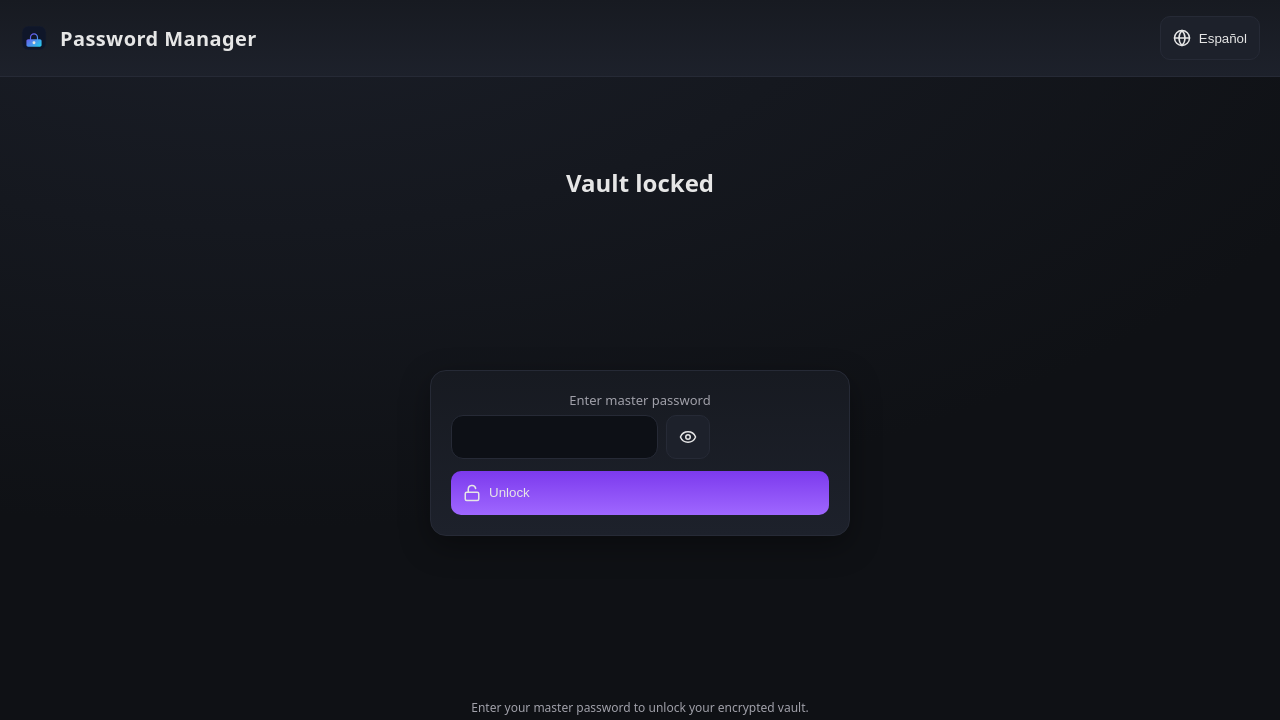
Scenario: a11y-foundations › Enter submits the add-entry form (keyboard-only flow)
Expected: the heading "Vault locked" is shown, [566,166,714,199]
Type "Str0ng!Pass" into the password field labelled "Enter master password".
click(554, 437); type("Str0ng!Pass")  # box [451,415,658,459]
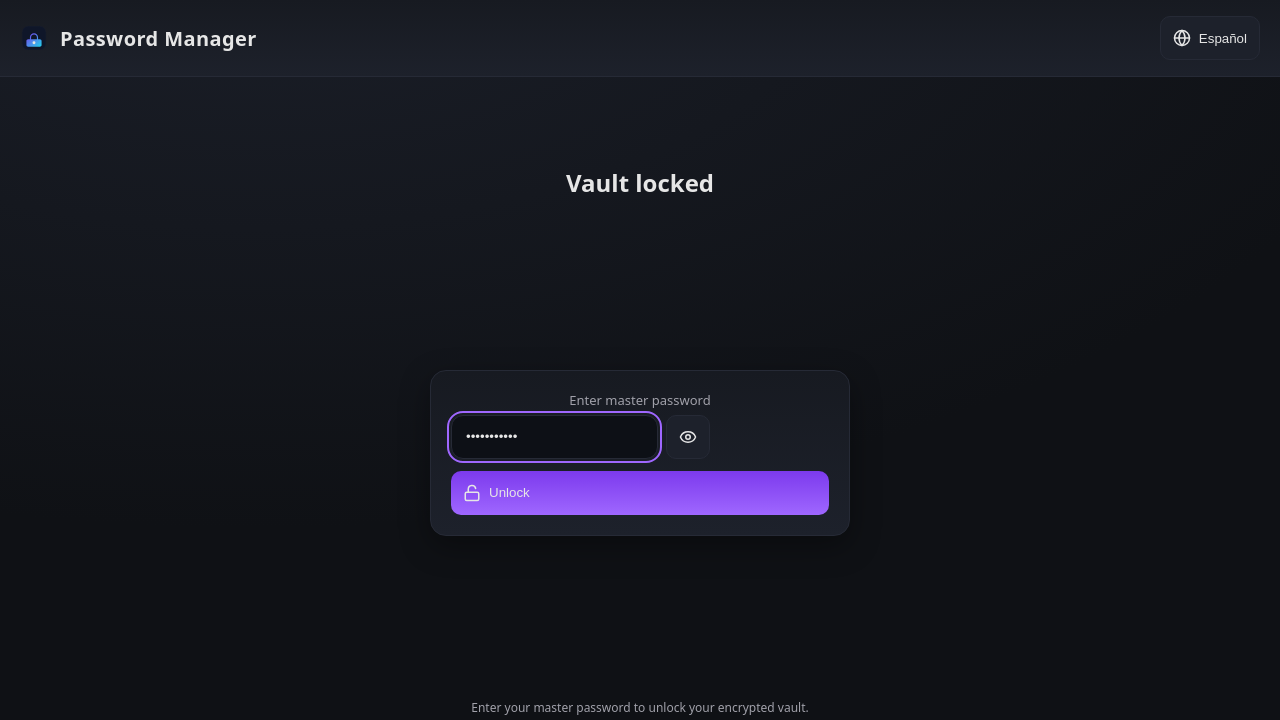
Click the button "Unlock".
click(509, 493)  # box [451,471,829,515]
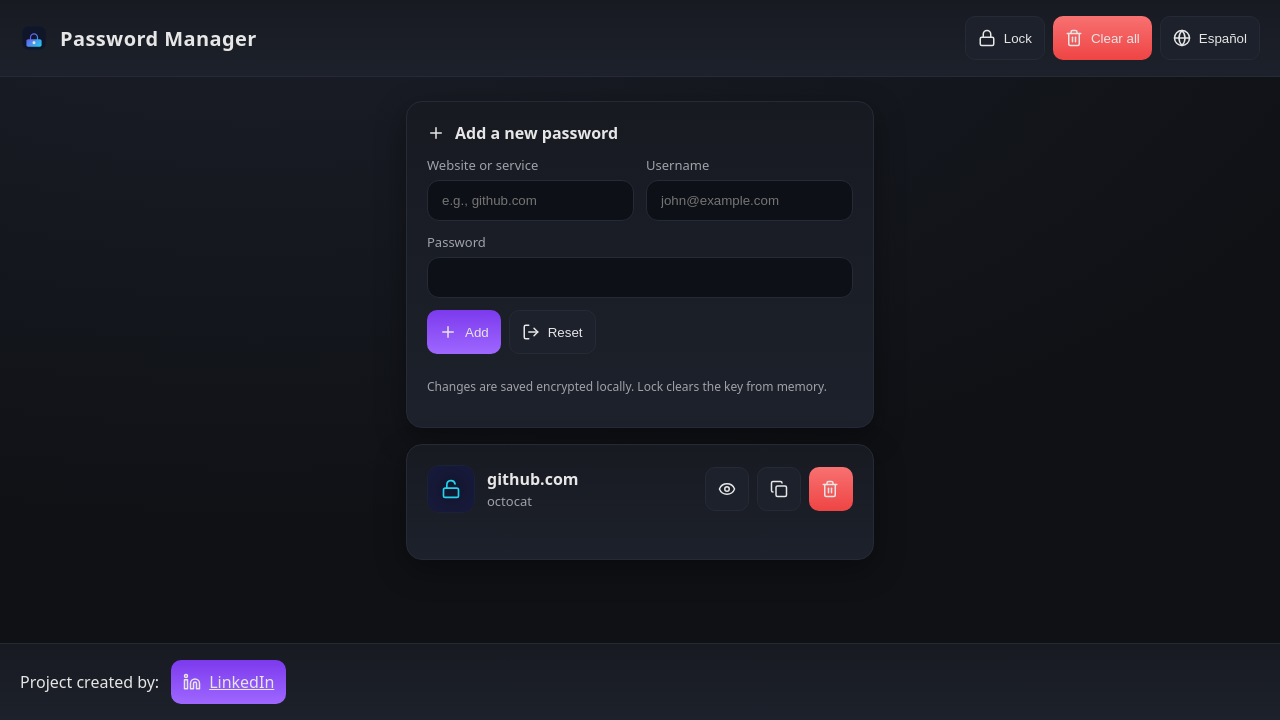
Expected: the text "github.com" is shown, [487,468,578,490]
Type "example.org" into the field labelled "Website or service".
click(530, 200); type("example.org")  # box [427,180,634,221]
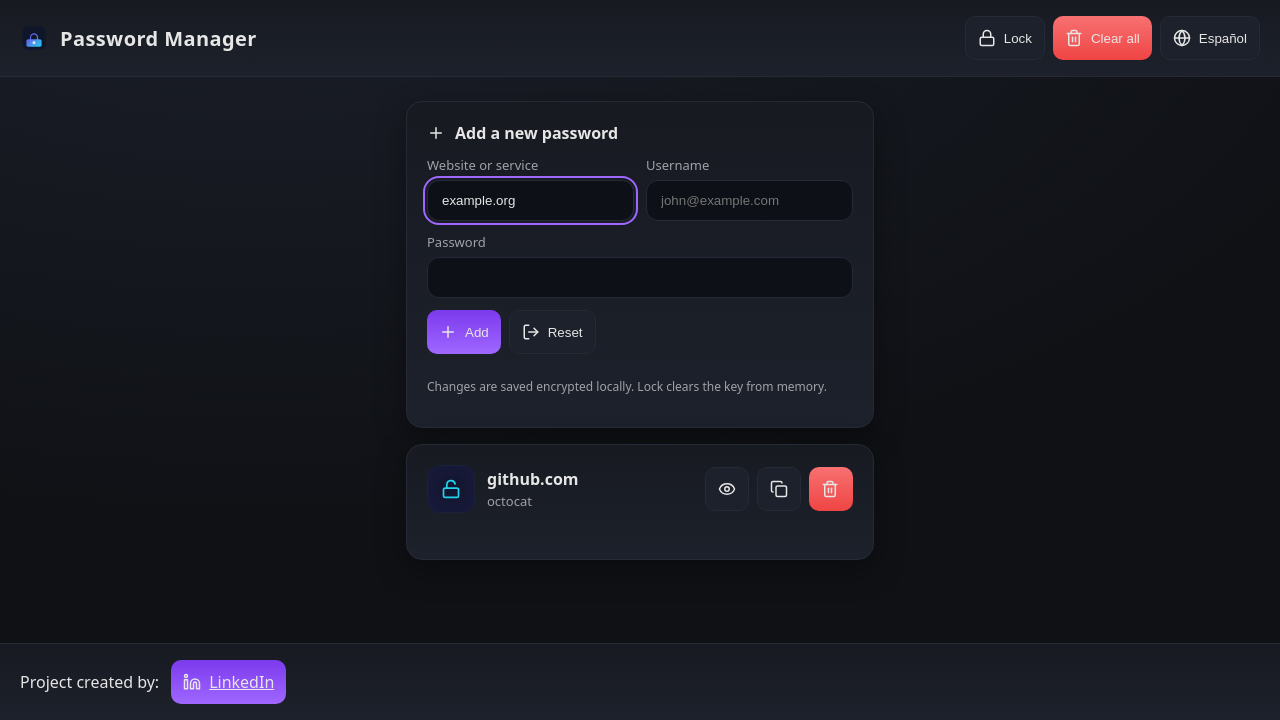
Type "alice" into the field labelled "Username".
click(750, 200); type("alice")  # box [646,180,853,221]
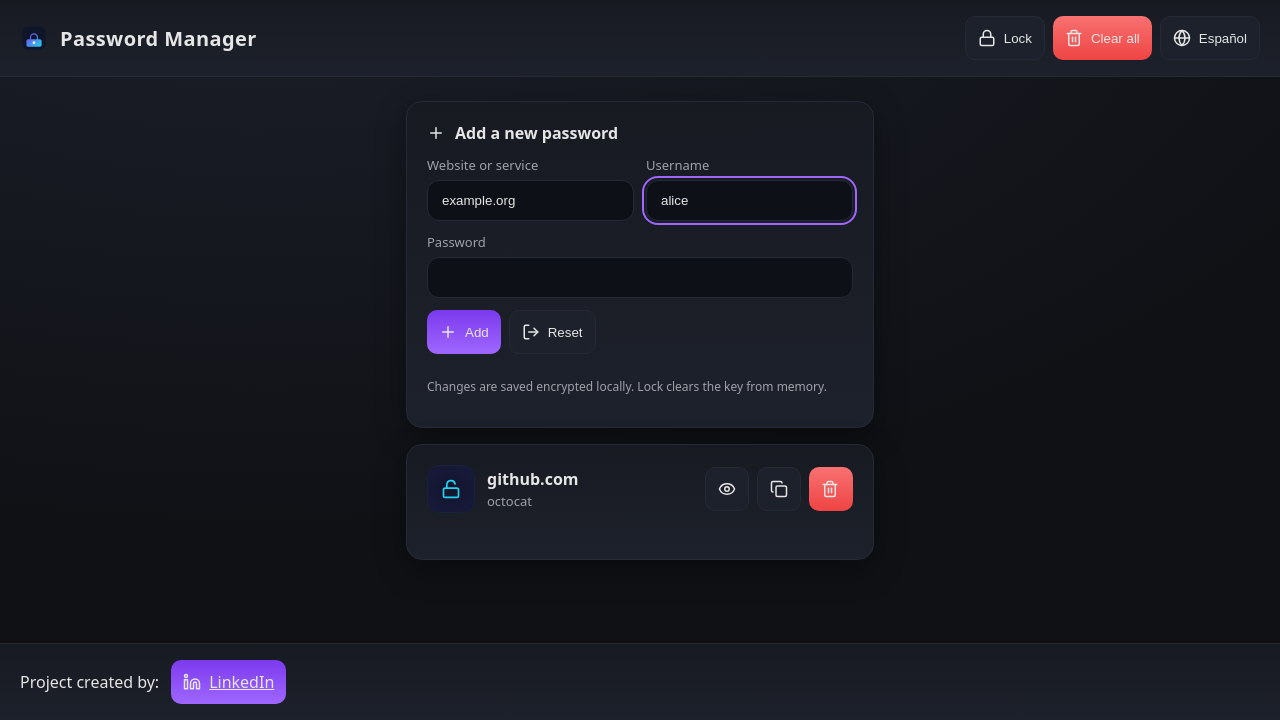
Type "pw-12345" into the password field labelled "Password".
click(640, 278); type("pw-12345")  # box [427,257,853,298]
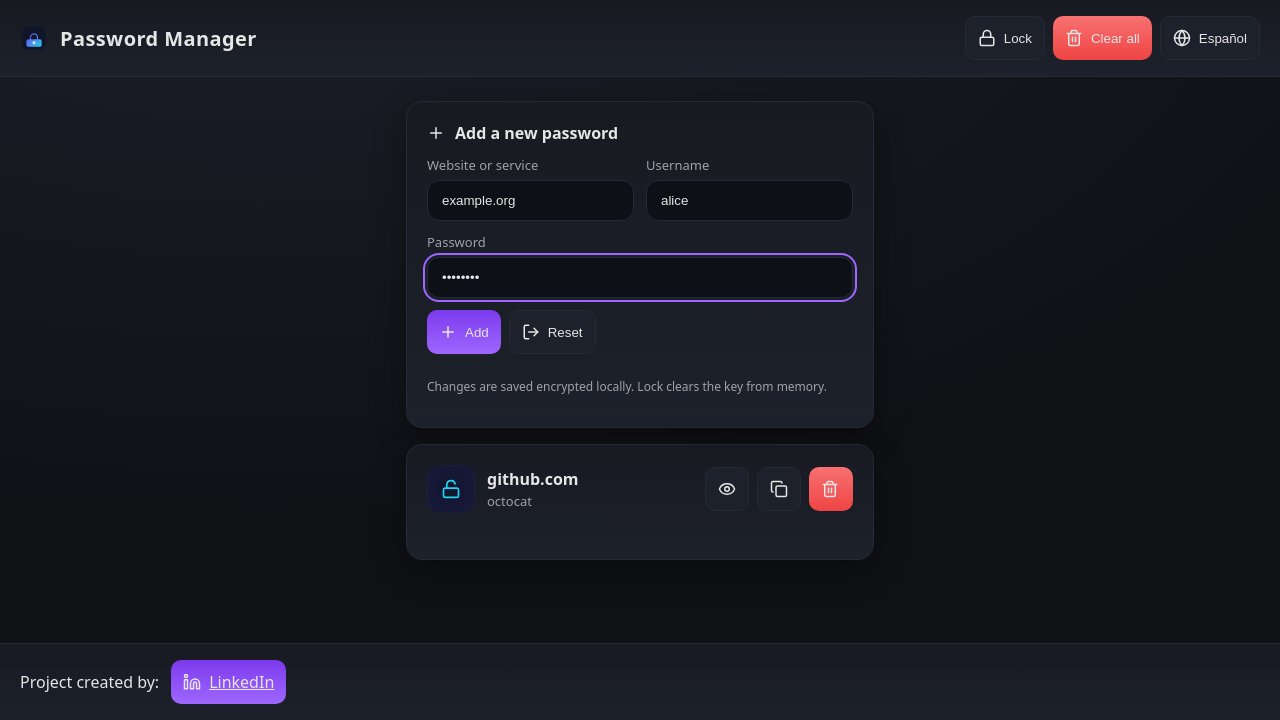
Press Enter
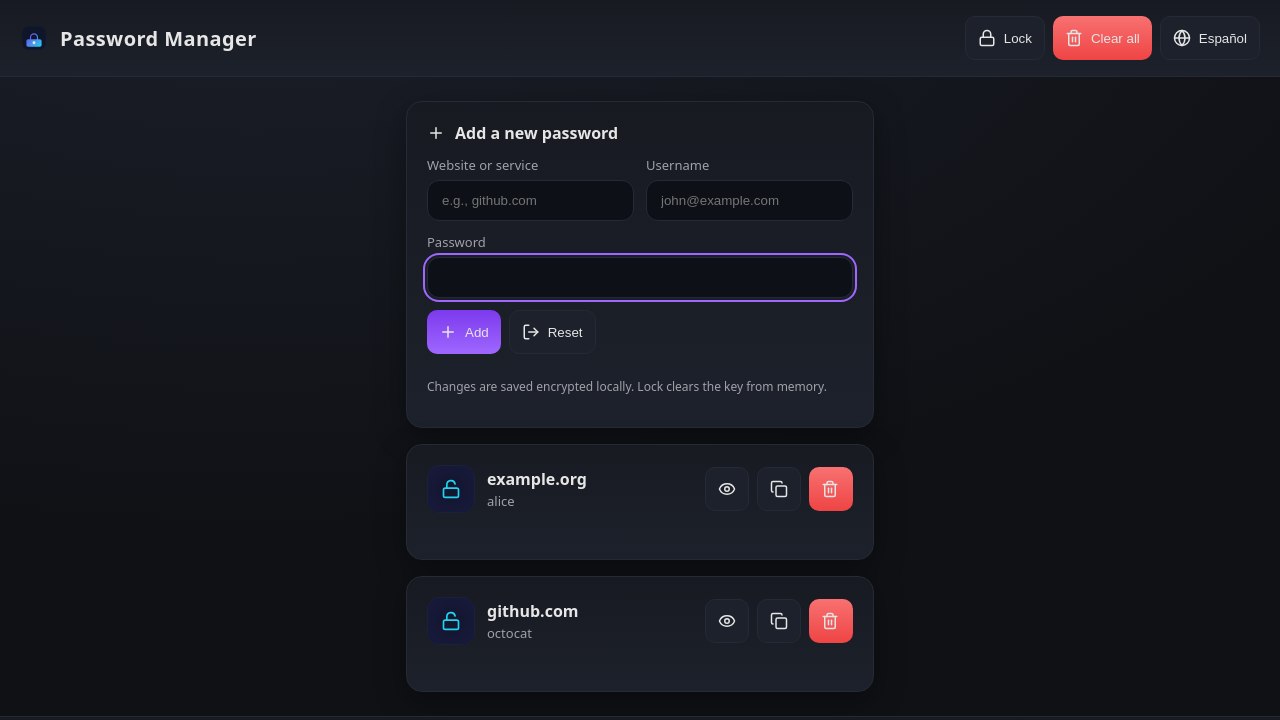
Expected: the text "example.org" is shown, [487,468,587,490]
